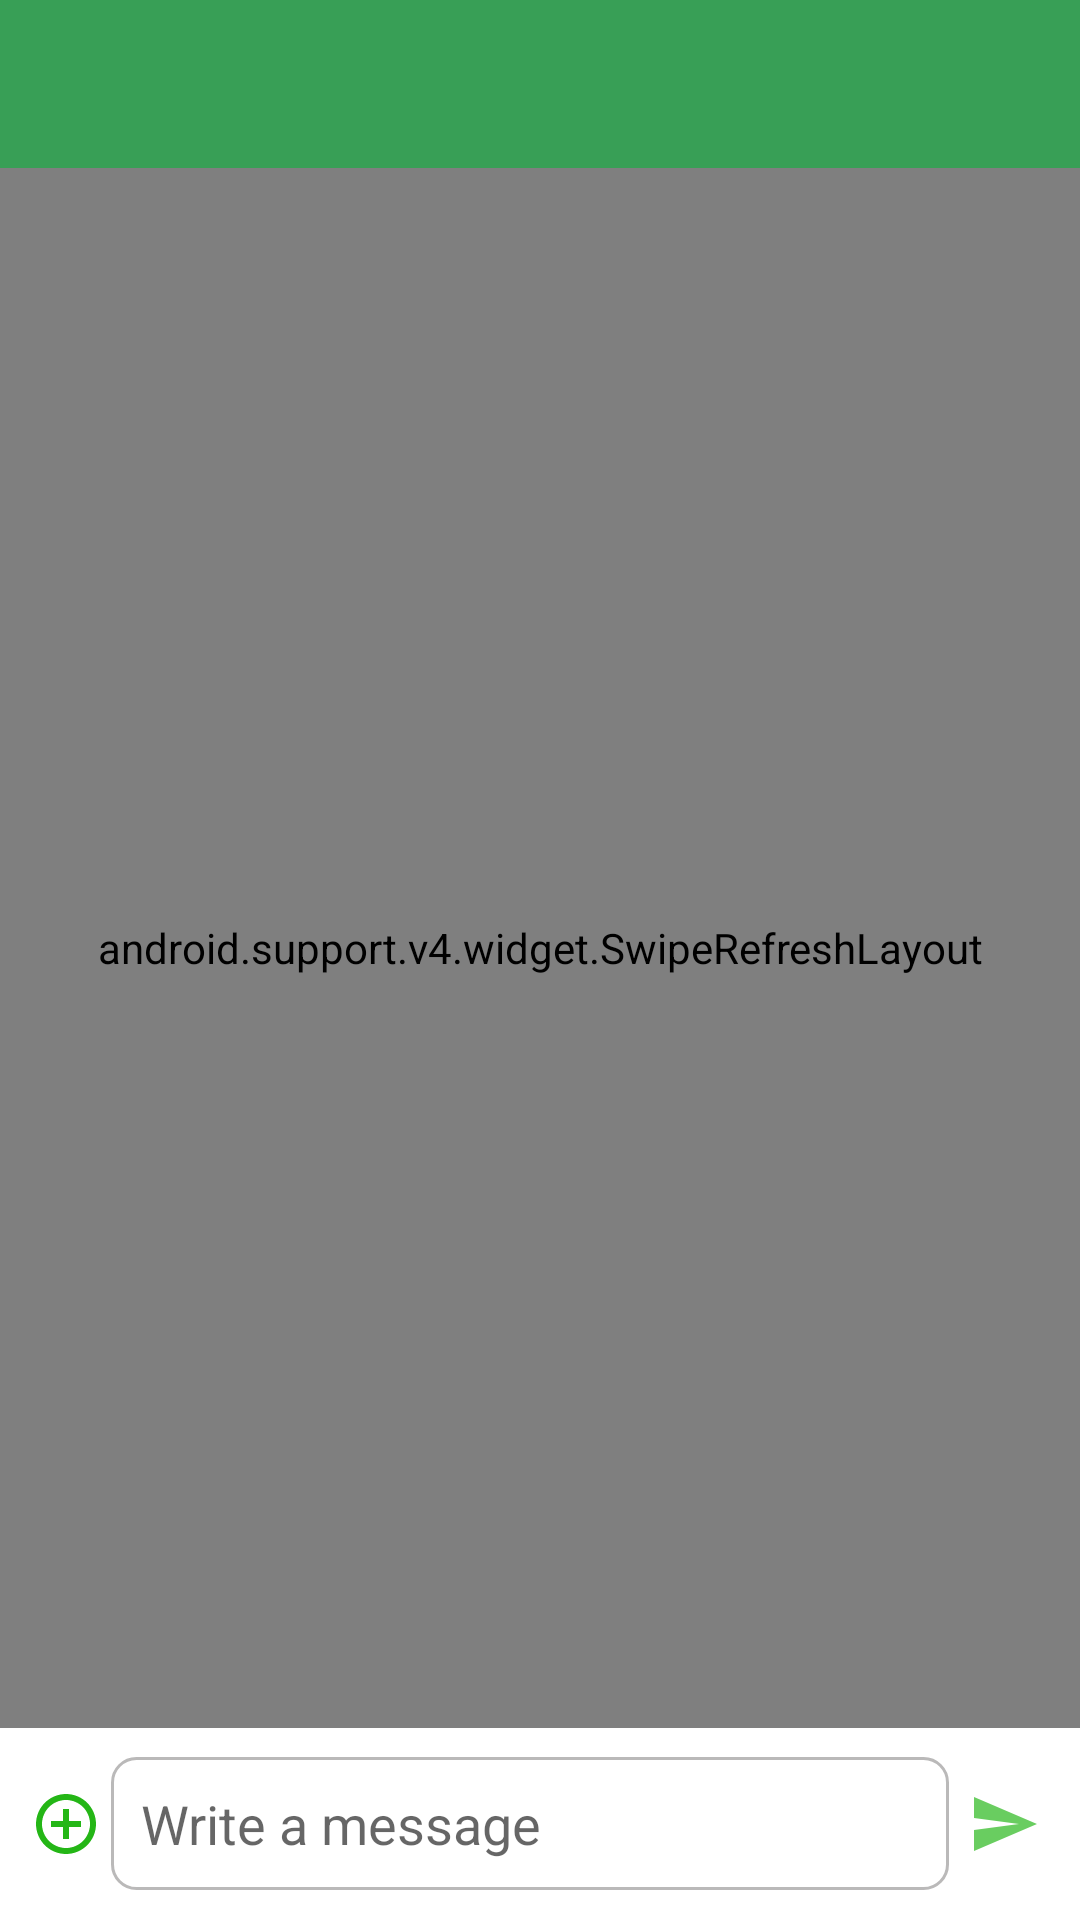

Named icons in this screenshot (1080×1920) and their bounding boxes, rect(x1, y1, x2, y2):
add circle: rect(36, 1794, 96, 1854)
send: rect(974, 1797, 1037, 1851)
